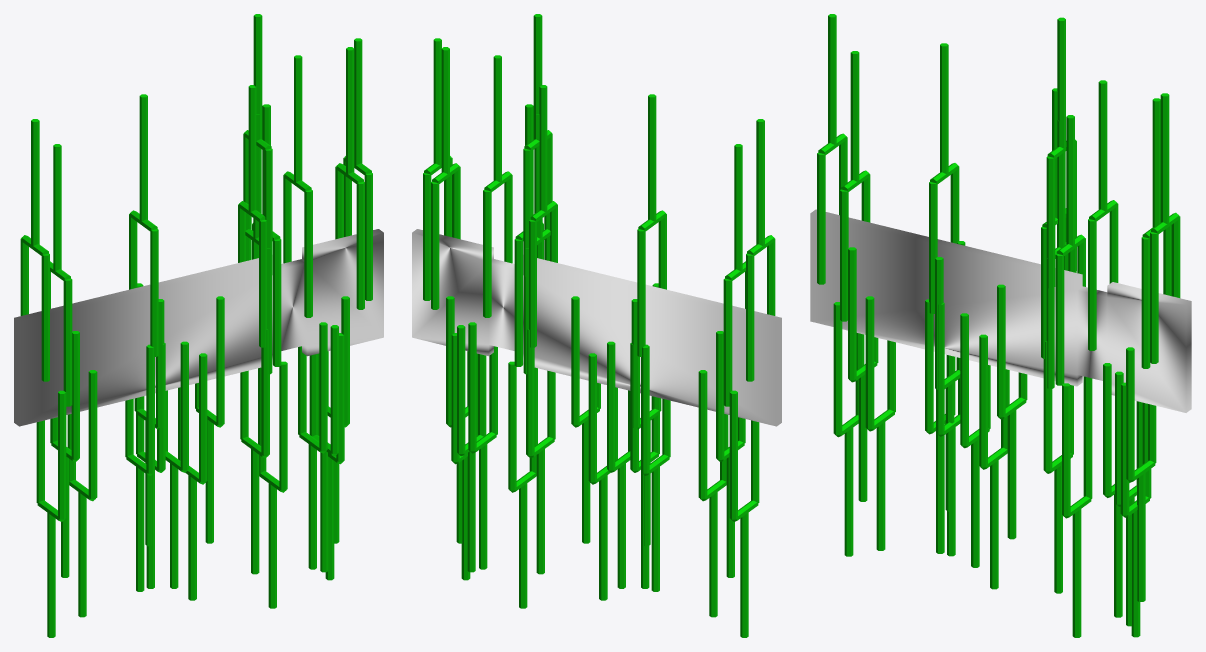
The picture shows the model from 3 angles, left to right: view 1: azimuth 30°, elevation 25°; view 2: azimuth 150°, elevation 25°; view 3: azimuth 330°, elevation 25°; orthographic projection. The views are drawn at different scales.
Visible parts, largest first — view 1: world, 00370036_c70fe7123142787fdc372400_step_037_0004.obj; view 2: world, 00370036_c70fe7123142787fdc372400_step_037_0004.obj; view 3: world, 00370036_c70fe7123142787fdc372400_step_037_0004.obj.
Boxes of the visible parts, x1,y1,x2,y2 form: world: (20,14,372,637); 00370036_c70fe7123142787fdc372400_step_037_0004.obj: (14,229,383,426); world: (423,14,775,637); 00370036_c70fe7123142787fdc372400_step_037_0004.obj: (412,229,781,426); world: (817,14,1180,637); 00370036_c70fe7123142787fdc372400_step_037_0004.obj: (810,209,1191,412).
Size of the model in its own units: 200 by 312 by 24.17.
